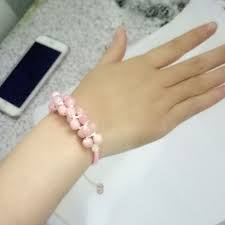hand: (59, 15, 221, 158)
